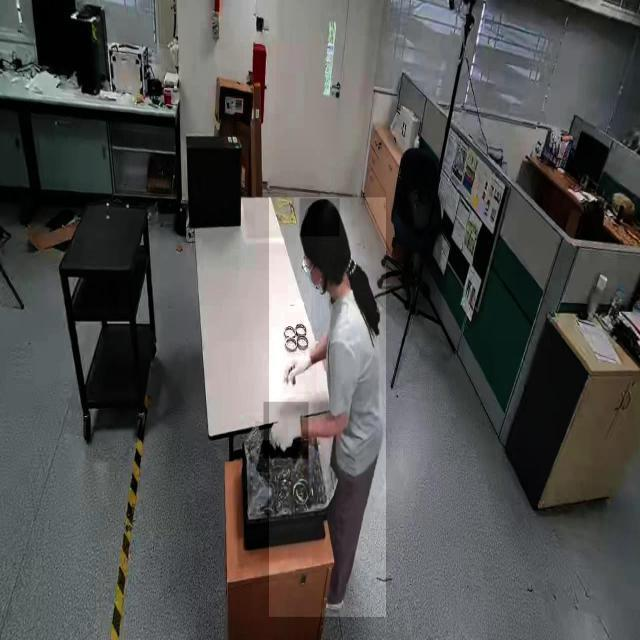gloves: (263, 402, 309, 459), (283, 337, 317, 394)
